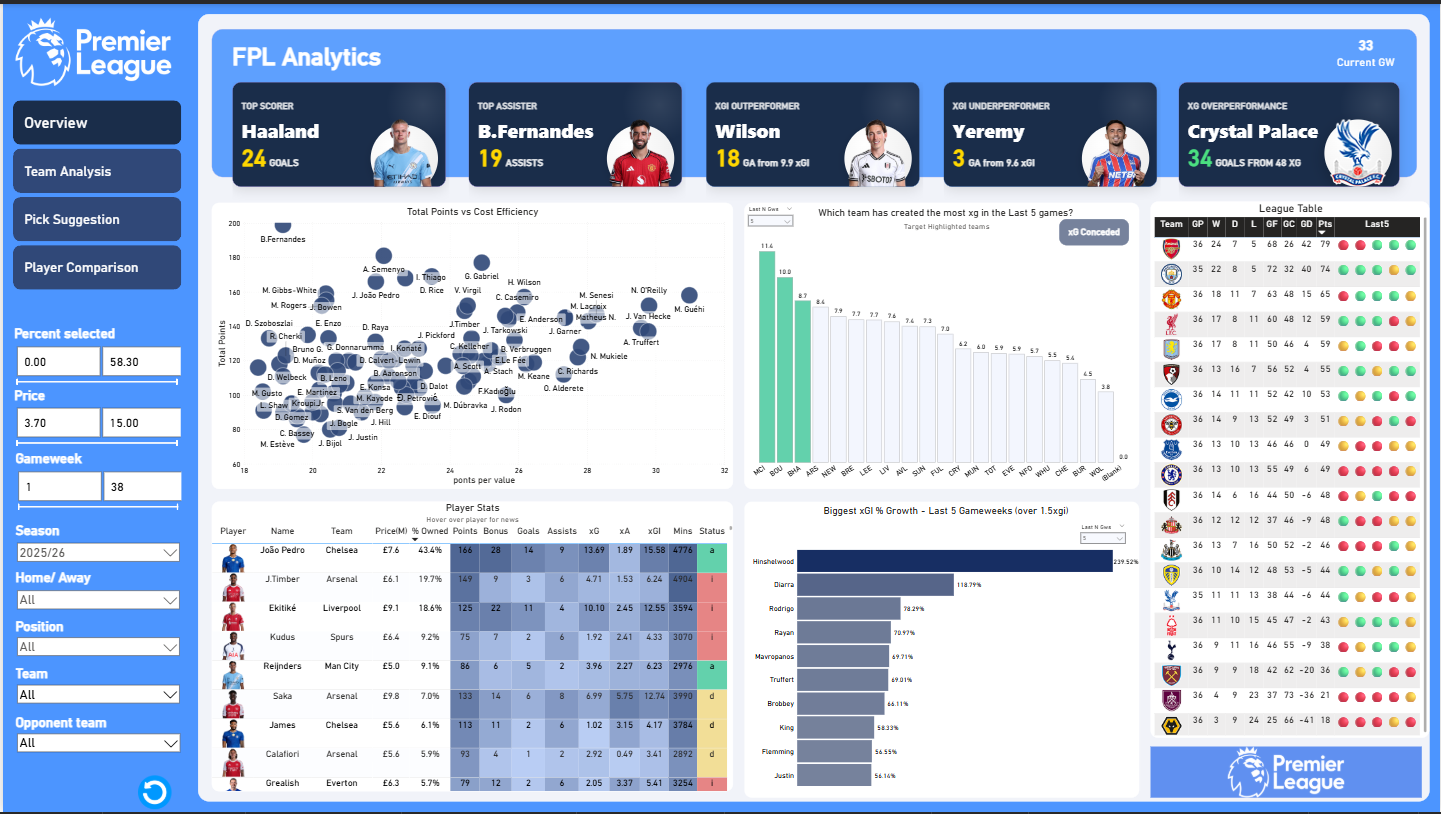

The dashboard page shown, as its layout file describes it:
{"tool":"powerbi","page":{"name":"Overview","canvas":[3840,2160],"ordinal":0},"visuals":[{"type":"image","box":[32,0,416,256],"z":0},{"type":"shape","box":[522,28,3290,2104],"z":2000},{"type":"shape","box":[557,68,3220,396],"z":3000},{"type":"pageNavigator","box":[26.7,256.7,450,506.7],"z":4000},{"type":"slicer","title":"Price","fields":{"Values":["FactTable.value"]},"box":[29,1020,450,195],"z":5000},{"type":"group","id":"g1","title":"Group 1","box":[34,1190,450,705],"z":6000},{"type":"slicer","title":"Opponent team","fields":{"Values":["opponent teams.opponent_name"]},"box":[34,1895,450,130],"z":7000},{"type":"slicer","title":"Percent selected ","fields":{"Values":["FactTable.selected_by_percent"]},"box":[30,853.3,450,196.7],"z":8000},{"type":"scatterChart","title":"Total Points vs Cost Efficiency","fields":{"Y":["Sum(FactTable.total_points)"],"X":["measures_.pointspervalue"],"Category":["players.display_name"]},"box":[557.7,531,1392.6,764.8],"z":9000},{"type":"tableEx","title":"League Table","fields":{"Values":["teams.badge_url","measures_.gp","measures_.wins","measures_.draws","measures_.loss","measures_.gf","measures_.gc","measures_.Gd","measures_.Points","measures_.Last5"]},"box":[3065.7,527.6,744.7,1432.7],"z":10000},{"type":"clusteredBarChart","fields":{"Y":["measures_.xgigrowth"],"Category":["players.web_name"]},"box":[1980.3,1329.1,1055.3,791.5],"z":11000},{"type":"slicer","fields":{"Values":["Last N Gws 2.Last N Gws"]},"box":[2870,1382,140,76],"z":12000},{"type":"tableEx","title":"Player Stats","fields":{"Values":["players.photo","players.web_name","measures_.team","measures_.pricedisplay","measures_.% Owned","Sum(FactTable.total_points)","Sum(FactTable.bonus)","Sum(FactTable.goals_scored)","Sum(FactTable.assists)","Sum(FactTable.xG)","Sum(FactTable.xA)","Sum(FactTable.xGI)"]},"box":[557.7,1329.1,1392.6,774.8],"z":13000},{"type":"htmlContent443BE3AD55E043BF878BED274D3A6855","fields":{"content":["measures_.topscorercard"]},"box":[606.7,203.3,590,326.7],"z":14000},{"type":"htmlContent443BE3AD55E043BF878BED274D3A6855","fields":{"content":["measures_.topsassistscard"]},"box":[1240,203.3,590,326],"z":15000},{"type":"htmlContent443BE3AD55E043BF878BED274D3A6855","fields":{"content":["measures_.xgoverperformance_PlayerCard"]},"box":[1874,203.3,590,326.7],"z":16000},{"type":"htmlContent443BE3AD55E043BF878BED274D3A6855","fields":{"content":["measures_.xgdiff_PlayerCard"]},"box":[2508,203.3,590,326],"z":17000},{"type":"slicer","title":"Season","fields":{"Values":["season.season"]},"box":[34,1382,448,128],"z":18000,"group":"g1"},{"type":"htmlContent443BE3AD55E043BF878BED274D3A6855","fields":{"content":["measures_.xgteamdiff_PlayerCard"]},"box":[3135.8,203.7,657.9,327.3],"z":19000},{"type":"slicer","title":"Position","fields":{"Values":["Position.Position"]},"box":[34,1638,448,128],"z":19000,"group":"g1"},{"type":"textbox","box":[606.7,96.7,736.7,160],"z":20000},{"type":"slicer","title":"Home/ Away","fields":{"Values":["home/away.home/away"]},"box":[34,1507.7,448,128],"z":20000,"group":"g1"},{"type":"card","fields":{"Values":["measures_._gw"]},"box":[3546.7,70,190,110],"z":21000},{"type":"slicer","title":"Gameweek","fields":{"Values":["gw.gw"]},"box":[34,1190,448,192],"z":21000,"group":"g1"},{"type":"clusteredColumnChart","fields":{"Category":["teams.team_short_name"],"Y":["measures_.team_xg_scored"]},"box":[1980.3,531,1055.3,764.8],"z":22000},{"type":"slicer","fields":{"Values":["Last N Gws 2.Last N Gws"]},"box":[1980,533.3,140,76.7],"z":23000},{"type":"slicer","title":"Team ","fields":{"Values":["teams.team_name"]},"box":[34,1766,448,128],"z":23000,"group":"g1"},{"type":"shape","box":[2823.3,573.3,186.7,70],"z":24000},{"type":"image","box":[359.6,2049.4,89.9,111.5],"z":26000},{"type":"image","box":[3065.7,1983.7,724.7,136.9],"z":26001}]}

Visuals, with their boxes on the page's 3840x2160 design canvas (x1, y1, x2, y2). These are canvas units, not pixel positions in the 1441x814 screenshot, which may show the page scaled, cropped or inside an application window:
image: [32, 0, 448, 256]
shape: [522, 28, 3812, 2132]
shape: [557, 68, 3777, 464]
pageNavigator: [27, 257, 477, 763]
"Price" slicer: [29, 1020, 479, 1215]
"Group 1" group: [34, 1190, 484, 1895]
"Opponent team" slicer: [34, 1895, 484, 2025]
"Percent selected " slicer: [30, 853, 480, 1050]
"Total Points vs Cost Efficiency" scatterChart: [558, 531, 1950, 1296]
"League Table" tableEx: [3066, 528, 3810, 1960]
clusteredBarChart - measures_.xgigrowth x players.web_name: [1980, 1329, 3036, 2121]
slicer - Last N Gws 2.Last N Gws: [2870, 1382, 3010, 1458]
"Player Stats" tableEx: [558, 1329, 1950, 2104]
htmlContent443BE3AD55E043BF878BED274D3A6855 - measures_.topscorercard: [607, 203, 1197, 530]
htmlContent443BE3AD55E043BF878BED274D3A6855 - measures_.topsassistscard: [1240, 203, 1830, 529]
htmlContent443BE3AD55E043BF878BED274D3A6855 - measures_.xgoverperformance_PlayerCard: [1874, 203, 2464, 530]
htmlContent443BE3AD55E043BF878BED274D3A6855 - measures_.xgdiff_PlayerCard: [2508, 203, 3098, 529]
"Season" slicer: [34, 1382, 482, 1510]
htmlContent443BE3AD55E043BF878BED274D3A6855 - measures_.xgteamdiff_PlayerCard: [3136, 204, 3794, 531]
"Position" slicer: [34, 1638, 482, 1766]
textbox: [607, 97, 1343, 257]
"Home/ Away" slicer: [34, 1508, 482, 1636]
card - measures_._gw: [3547, 70, 3737, 180]
"Gameweek" slicer: [34, 1190, 482, 1382]
clusteredColumnChart - teams.team_short_name x measures_.team_xg_scored: [1980, 531, 3036, 1296]
slicer - Last N Gws 2.Last N Gws: [1980, 533, 2120, 610]
"Team " slicer: [34, 1766, 482, 1894]
shape: [2823, 573, 3010, 643]
image: [360, 2049, 450, 2161]
image: [3066, 1984, 3790, 2121]
